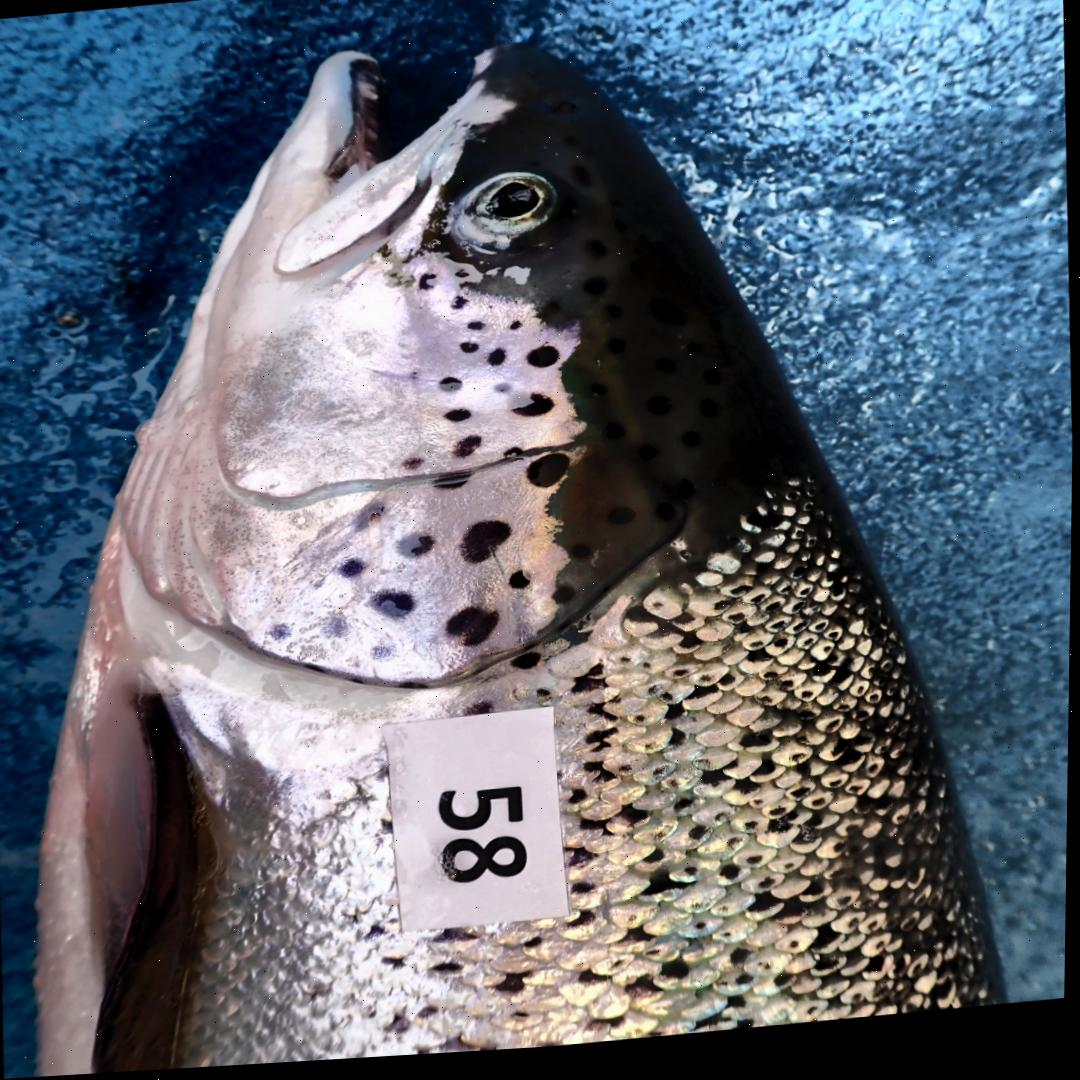spot: (462, 526, 512, 569), (447, 612, 500, 651), (527, 459, 570, 494), (374, 596, 417, 623), (509, 400, 554, 423), (355, 506, 386, 535), (396, 539, 433, 563), (452, 439, 484, 464), (527, 352, 559, 374), (433, 477, 474, 494), (325, 621, 349, 642), (341, 563, 366, 582), (267, 627, 292, 644), (509, 577, 532, 595), (373, 649, 397, 664), (445, 414, 471, 427), (440, 383, 462, 398), (488, 354, 506, 371), (419, 278, 436, 295), (503, 452, 522, 466), (402, 463, 423, 475), (452, 302, 468, 314), (461, 348, 479, 358), (494, 389, 511, 399), (468, 327, 485, 336), (510, 327, 522, 336)
